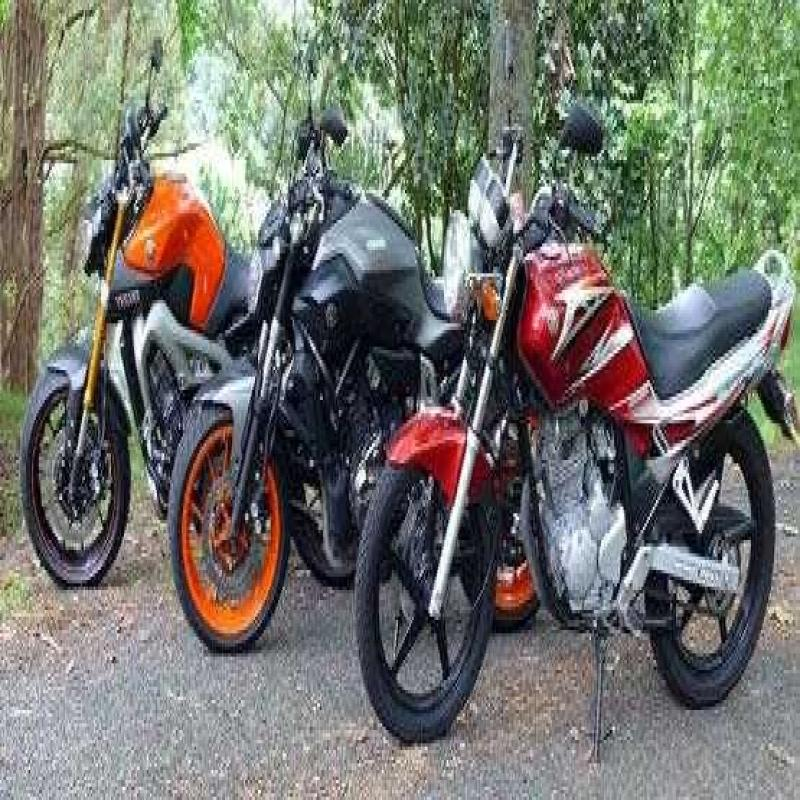bike: (362, 90, 800, 713), (195, 106, 491, 631), (18, 16, 281, 582)
